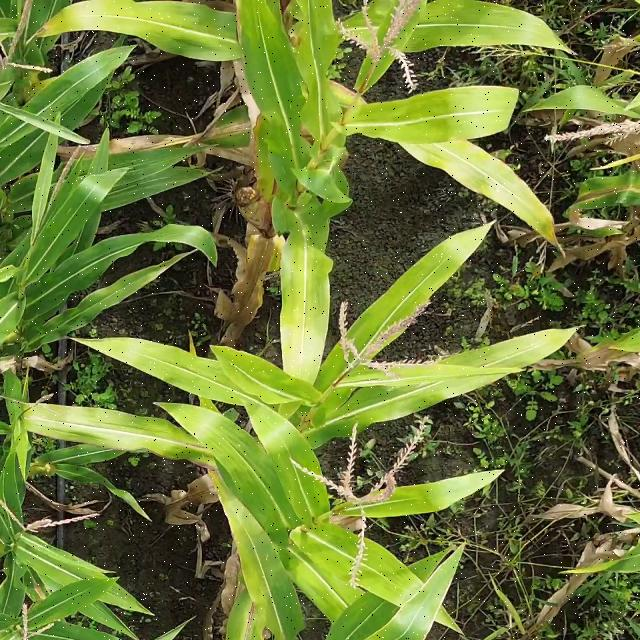gray-leaf-spot: (56, 148, 212, 215)
northern-leaf-blight: (9, 388, 227, 474), (561, 166, 640, 237), (200, 98, 260, 162)
